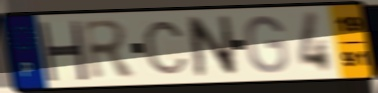4: (296, 9, 334, 76)
C: (141, 19, 191, 76)
G: (243, 13, 291, 75)
H: (36, 20, 90, 82)
N: (185, 14, 239, 78)
R: (80, 18, 140, 82)
